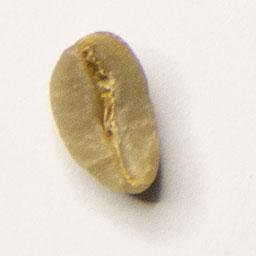longberry: (46, 28, 164, 199)
